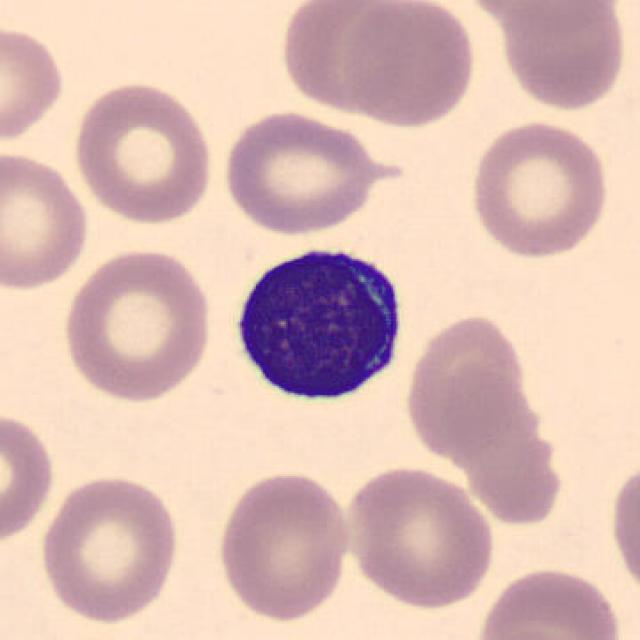Lymphocyte: (222, 231, 414, 414)
RBC: (57, 244, 217, 406), (215, 106, 404, 238), (338, 462, 498, 610), (36, 471, 183, 626), (213, 467, 354, 624), (69, 78, 217, 226), (464, 115, 613, 261), (400, 309, 533, 460), (336, 0, 480, 130), (278, 0, 422, 120), (496, 2, 631, 113), (0, 146, 92, 294), (471, 564, 628, 640), (0, 21, 69, 148), (0, 406, 57, 546), (458, 0, 624, 35), (606, 455, 640, 601), (473, 624, 611, 640)
